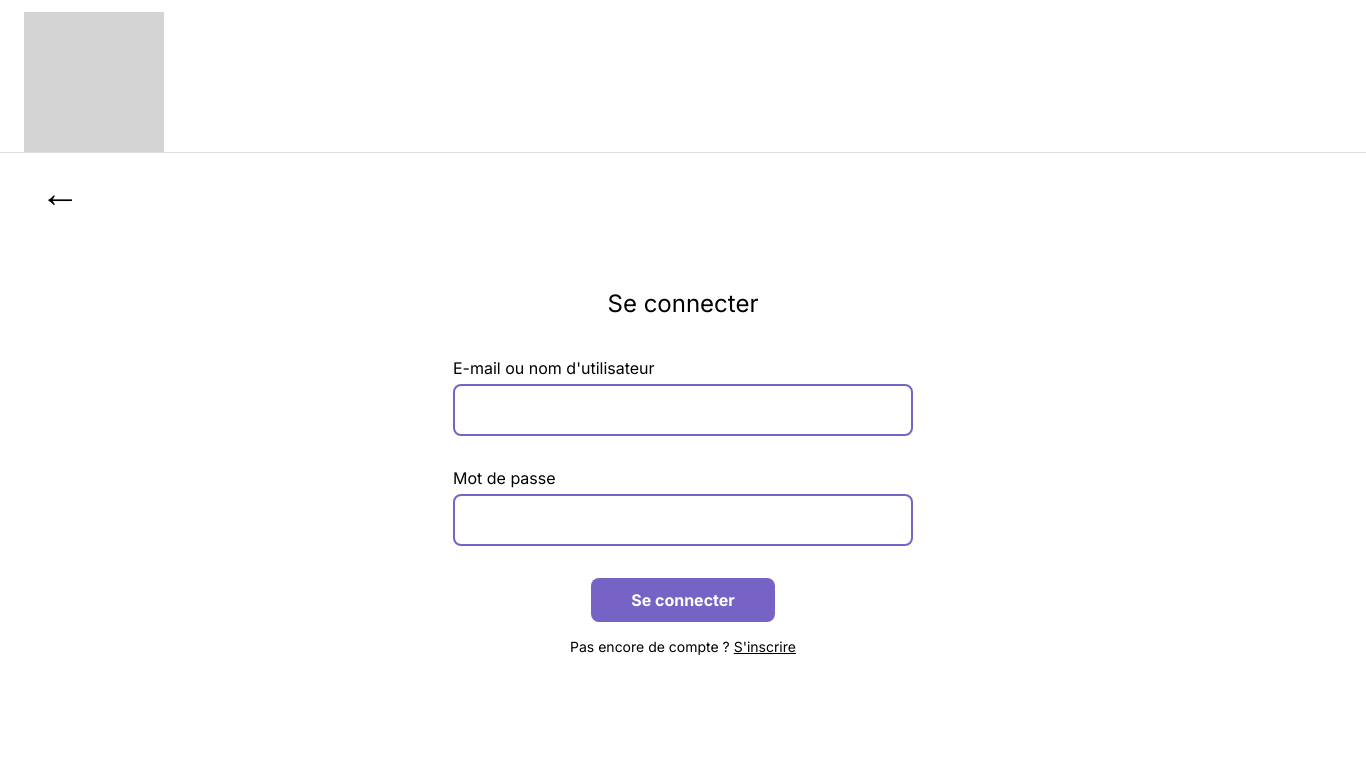
Test case: Login › should display error message with invalid credentials
In the field with id "emailOrUsername": (683, 410) [453,384,913,436], type "alice@example.com"
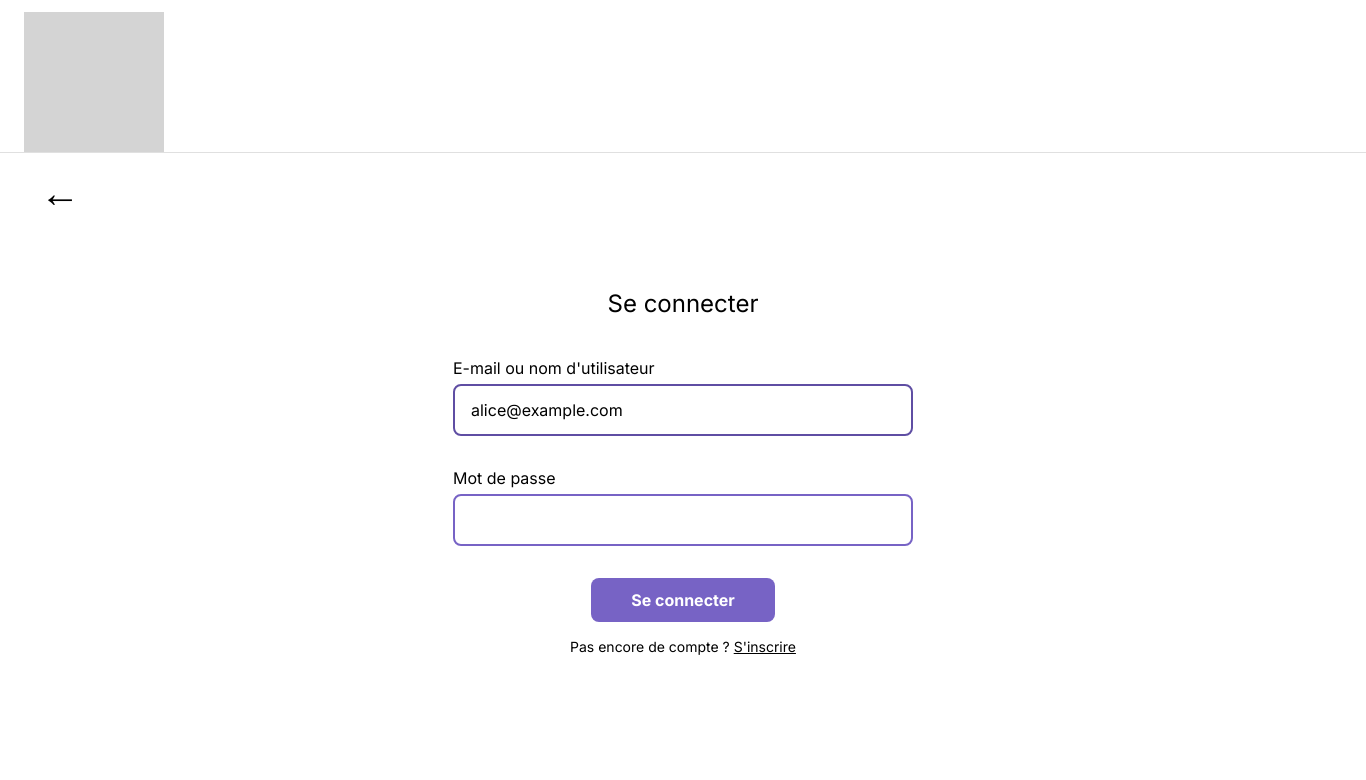
In the password field labelled "Mot de passe": (683, 520) [453,494,913,546], type "WrongPassword1!"
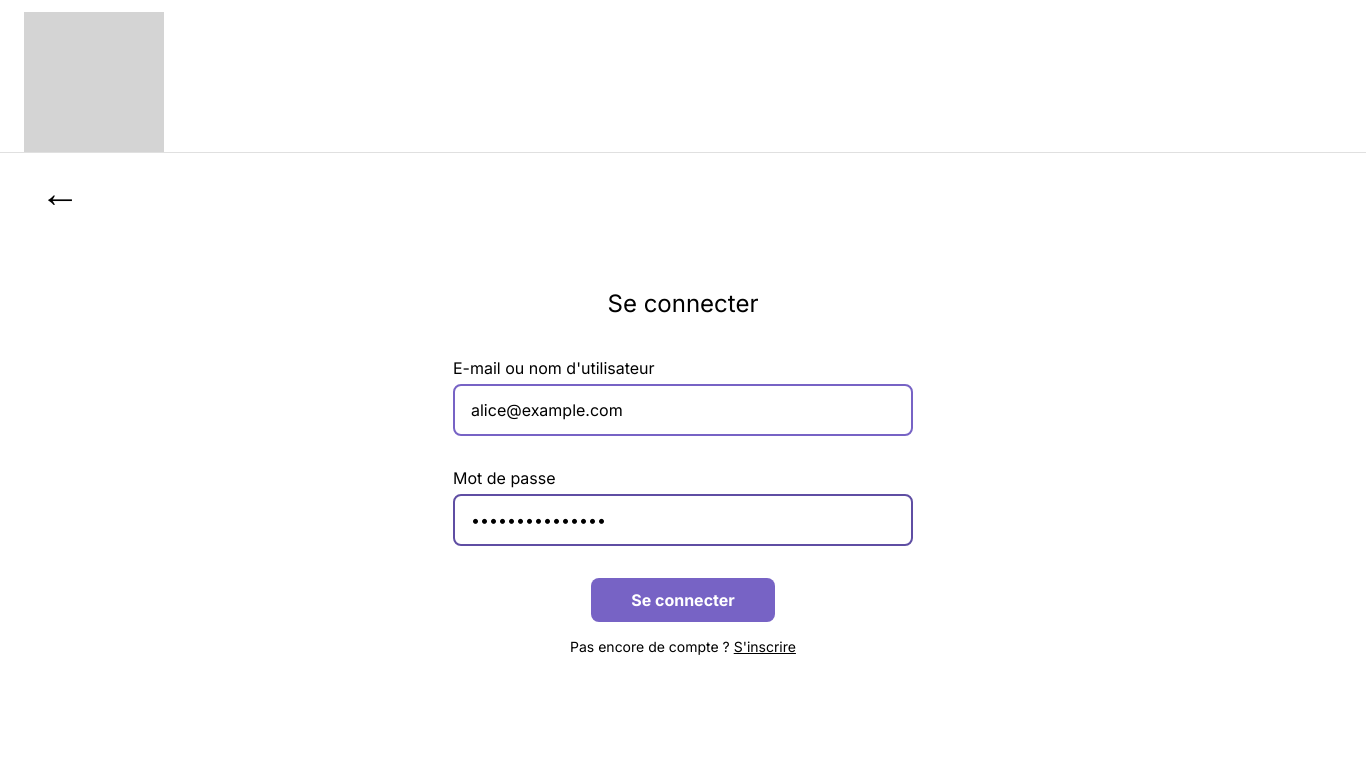
Click the button "Se connecter": (683, 600) [591,578,775,622]
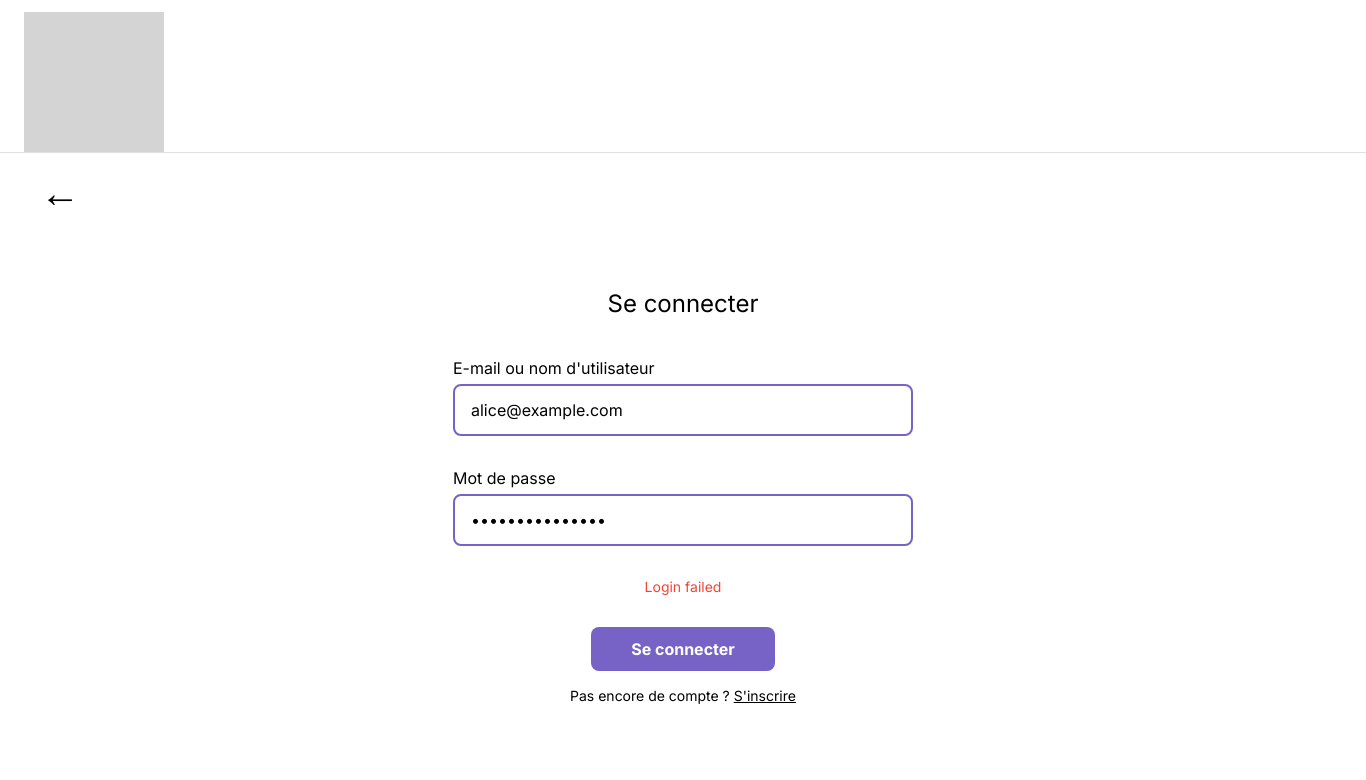
Check: the message "Login failed" is shown, box [645,578,721,595]
